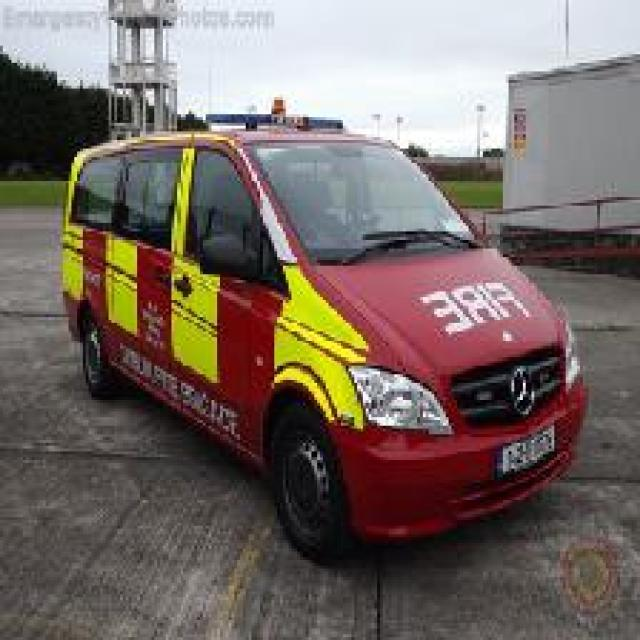Fire-truck: (57, 100, 589, 563)
Truck: (497, 40, 637, 271)
